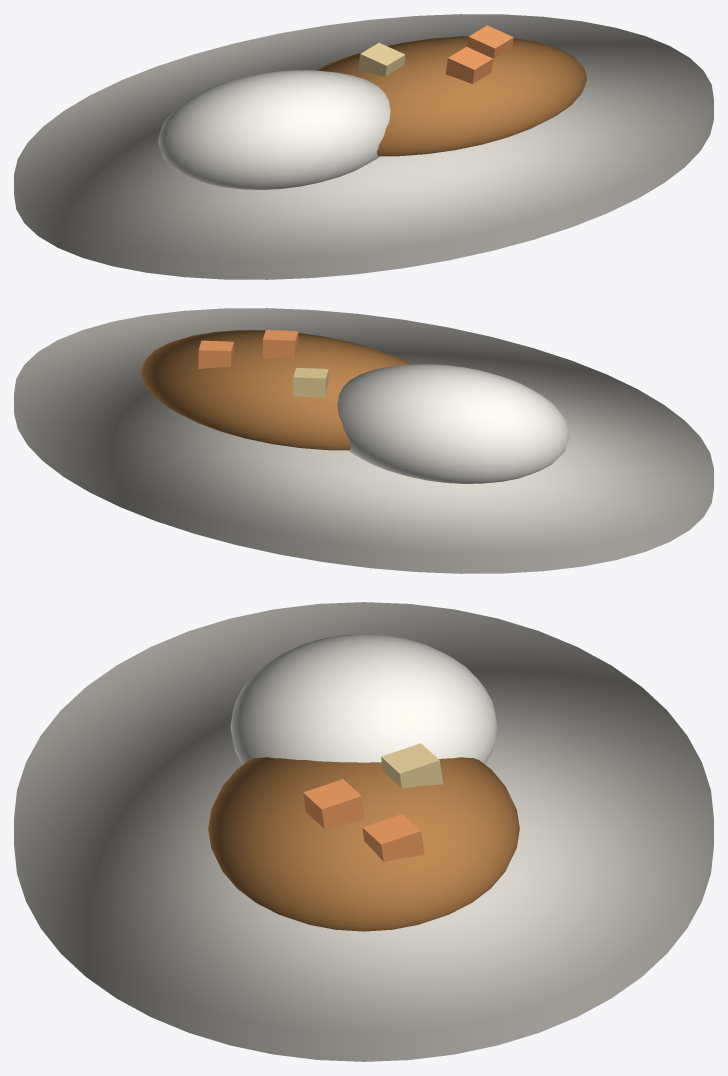
File: beef_curry.glb
The picture shows the model from 3 angles, top to bottom: view 1: azimuth 30°, elevation 25°; view 2: azimuth 150°, elevation 25°; view 3: azimuth 270°, elevation 25°; orthographic projection. The views are drawn at different scales.
Size of the model in its own units: 2.76 by 0.35 by 1.89.
